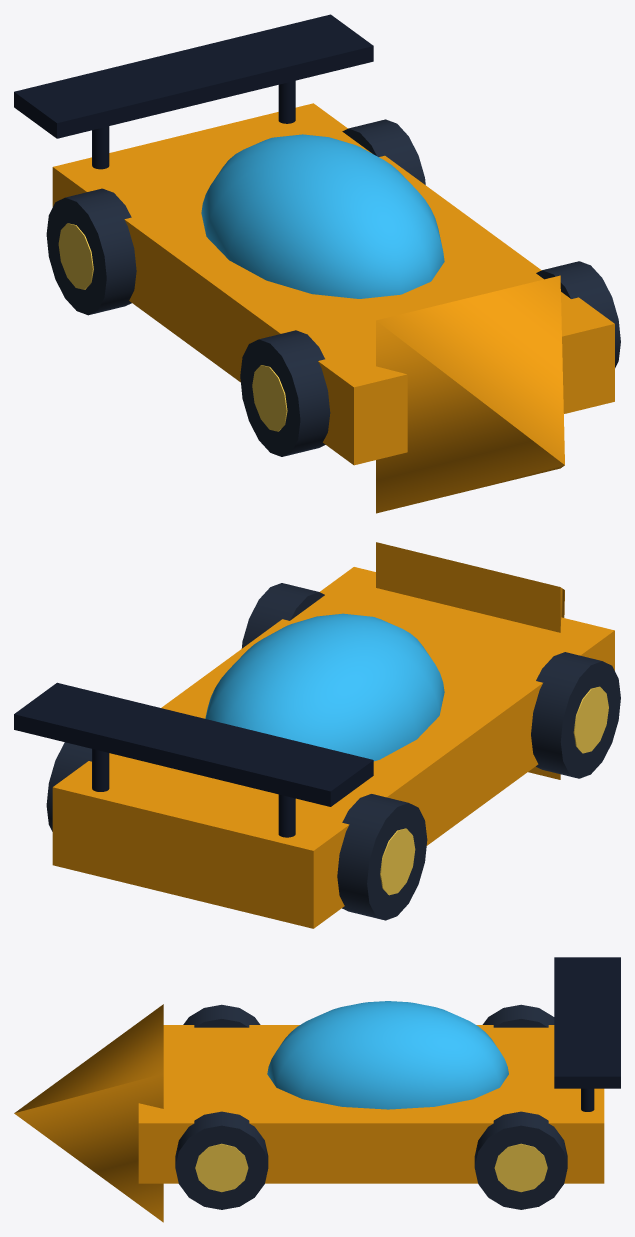
File: race_car.glb
The picture shows the model from 3 angles, top to bottom: view 1: azimuth 30°, elevation 25°; view 2: azimuth 150°, elevation 25°; view 3: azimuth 270°, elevation 25°; orthographic projection. The views are drawn at different scales.
Visible parts, largest first — view 1: RaceCar; view 2: RaceCar; view 3: RaceCar.
Part boxes in pixels (x1=…): RaceCar: x1=14, y1=14, x2=620, y2=513; RaceCar: x1=14, y1=542, x2=620, y2=928; RaceCar: x1=14, y1=957, x2=620, y2=1222.
Size of the model in its own units: 0.865 by 0.5915 by 1.82.
